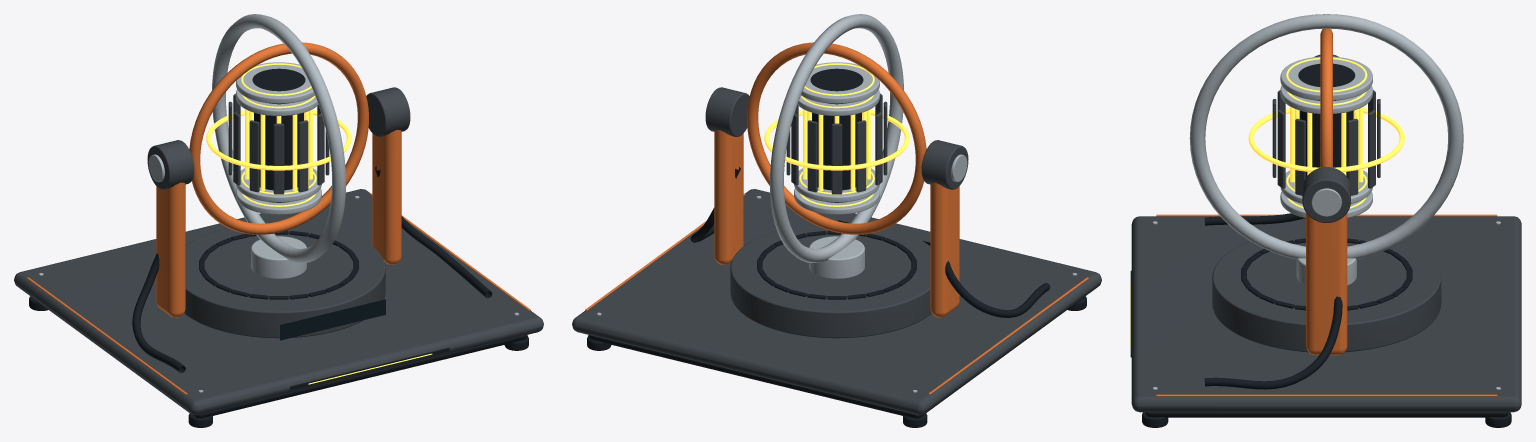
The model's file is core.glb.
3 renders of one model, left to right at view 1: azimuth 30°, elevation 25°; view 2: azimuth 150°, elevation 25°; view 3: azimuth 270°, elevation 25°, orthographic. The views are drawn at different scales.
Parts seen in each view (by area): view 1: Static / Graphite ceramic, Static / Recessed black rubber, Static / Burnt orange enamel, ROTOR_outer, Static / Satin titanium, ROTOR_inner, Static / Amber instrument light, LABEL_core; view 2: Static / Graphite ceramic, Static / Burnt orange enamel, Static / Recessed black rubber, ROTOR_outer, Static / Satin titanium, ROTOR_inner, Static / Amber instrument light; view 3: Static / Graphite ceramic, ROTOR_outer, Static / Recessed black rubber, Static / Burnt orange enamel, Static / Satin titanium, Static / Amber instrument light, ROTOR_inner.
Part boxes in pixels (left/top/right/bottom): Static / Graphite ceramic: left=14, top=87, right=543, bottom=415; Static / Recessed black rubber: left=29, top=68, right=528, bottom=427; Static / Burnt orange enamel: left=27, top=130, right=530, bottom=394; ROTOR_outer: left=212, top=14, right=345, bottom=262; Static / Satin titanium: left=38, top=62, right=519, bottom=392; ROTOR_inner: left=189, top=42, right=368, bottom=234; Static / Amber instrument light: left=206, top=63, right=432, bottom=384; LABEL_core: left=280, top=299, right=385, bottom=340; Static / Graphite ceramic: left=572, top=87, right=1101, bottom=415; Static / Burnt orange enamel: left=585, top=130, right=1088, bottom=394; Static / Recessed black rubber: left=587, top=68, right=1086, bottom=427; ROTOR_outer: left=770, top=14, right=903, bottom=262; Static / Satin titanium: left=596, top=62, right=1077, bottom=392; ROTOR_inner: left=747, top=42, right=926, bottom=234; Static / Amber instrument light: left=764, top=63, right=909, bottom=206; Static / Graphite ceramic: left=1131, top=54, right=1521, bottom=412; ROTOR_outer: left=1189, top=14, right=1463, bottom=259; Static / Recessed black rubber: left=1130, top=63, right=1511, bottom=427; Static / Burnt orange enamel: left=1156, top=213, right=1497, bottom=396; Static / Satin titanium: left=1152, top=56, right=1500, bottom=389; Static / Amber instrument light: left=1130, top=57, right=1404, bottom=346; ROTOR_inner: left=1320, top=28, right=1332, bottom=167.
Size of the model in its own units: 9 by 7.38 by 8.03.
